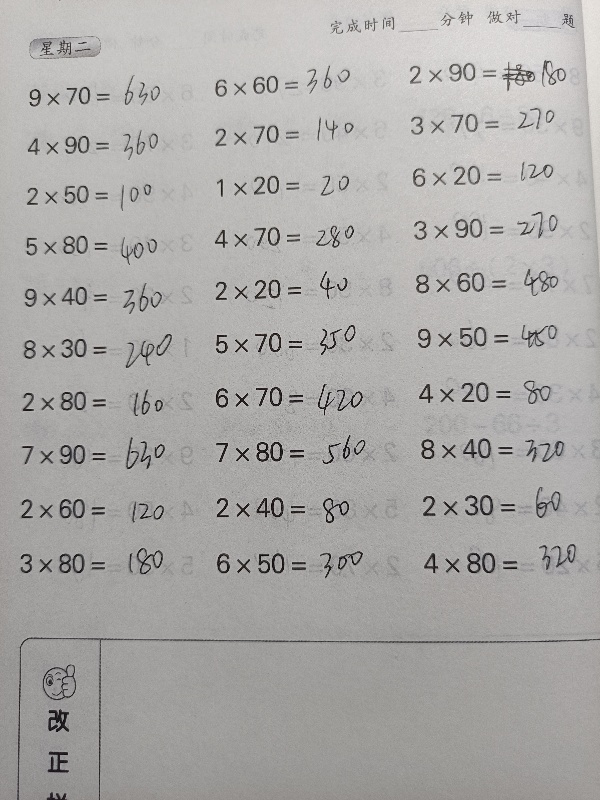equation: (401, 54, 581, 98), (19, 177, 199, 219), (206, 63, 386, 104), (408, 318, 588, 357), (411, 430, 591, 468), (208, 545, 388, 582), (415, 544, 595, 580), (208, 489, 388, 525), (413, 487, 593, 523), (208, 434, 388, 470), (206, 379, 386, 415), (409, 374, 589, 410), (14, 330, 194, 366), (406, 264, 586, 300), (405, 210, 585, 246), (12, 545, 192, 580), (13, 491, 193, 526), (14, 437, 194, 472), (14, 384, 194, 419), (206, 325, 386, 360), (206, 271, 386, 306), (17, 227, 197, 262), (205, 219, 385, 254), (403, 158, 583, 193), (15, 279, 195, 313), (207, 168, 387, 202), (18, 128, 198, 162), (206, 117, 386, 151), (402, 106, 582, 140), (20, 79, 200, 113)
